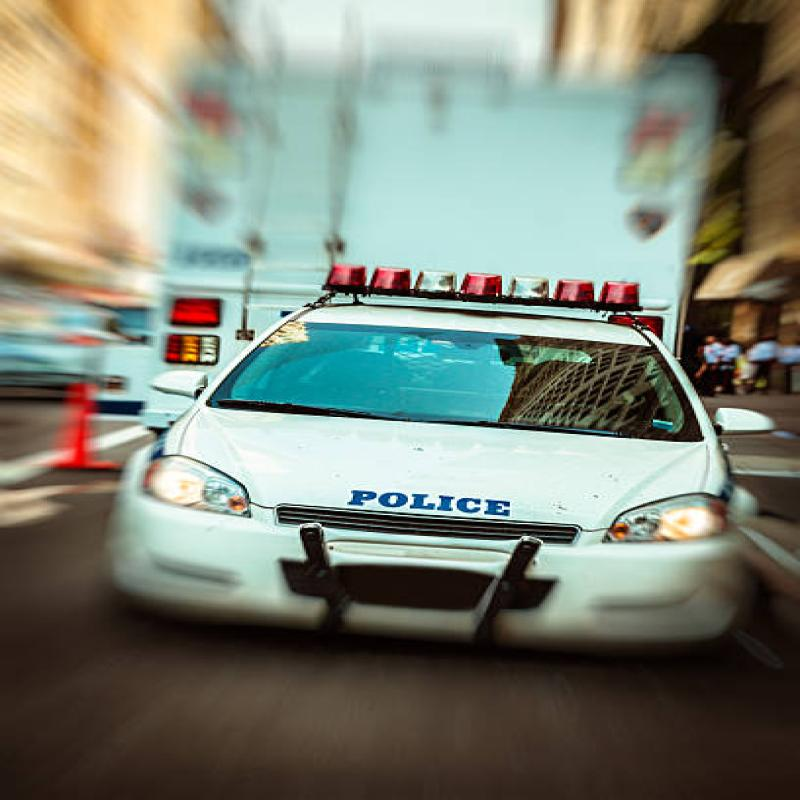AmbulanceSiren: (291, 241, 670, 324)
